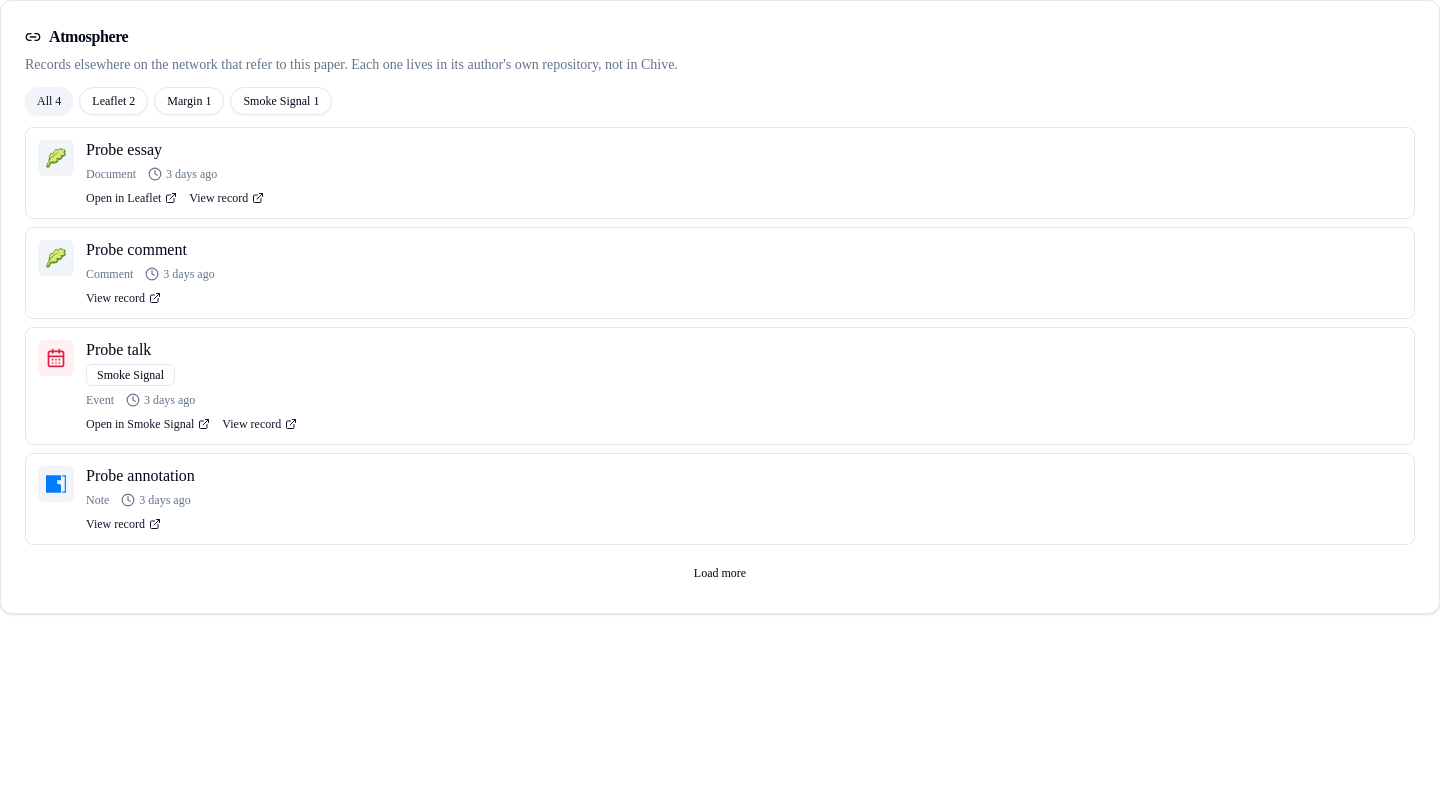
Test: BacklinksPanel › loads the next page on request
Expected: the text "Probe essay" is shown, [86,141,162,158]
Click the button "Load more".
click(720, 573)  # box [25,557,1415,589]
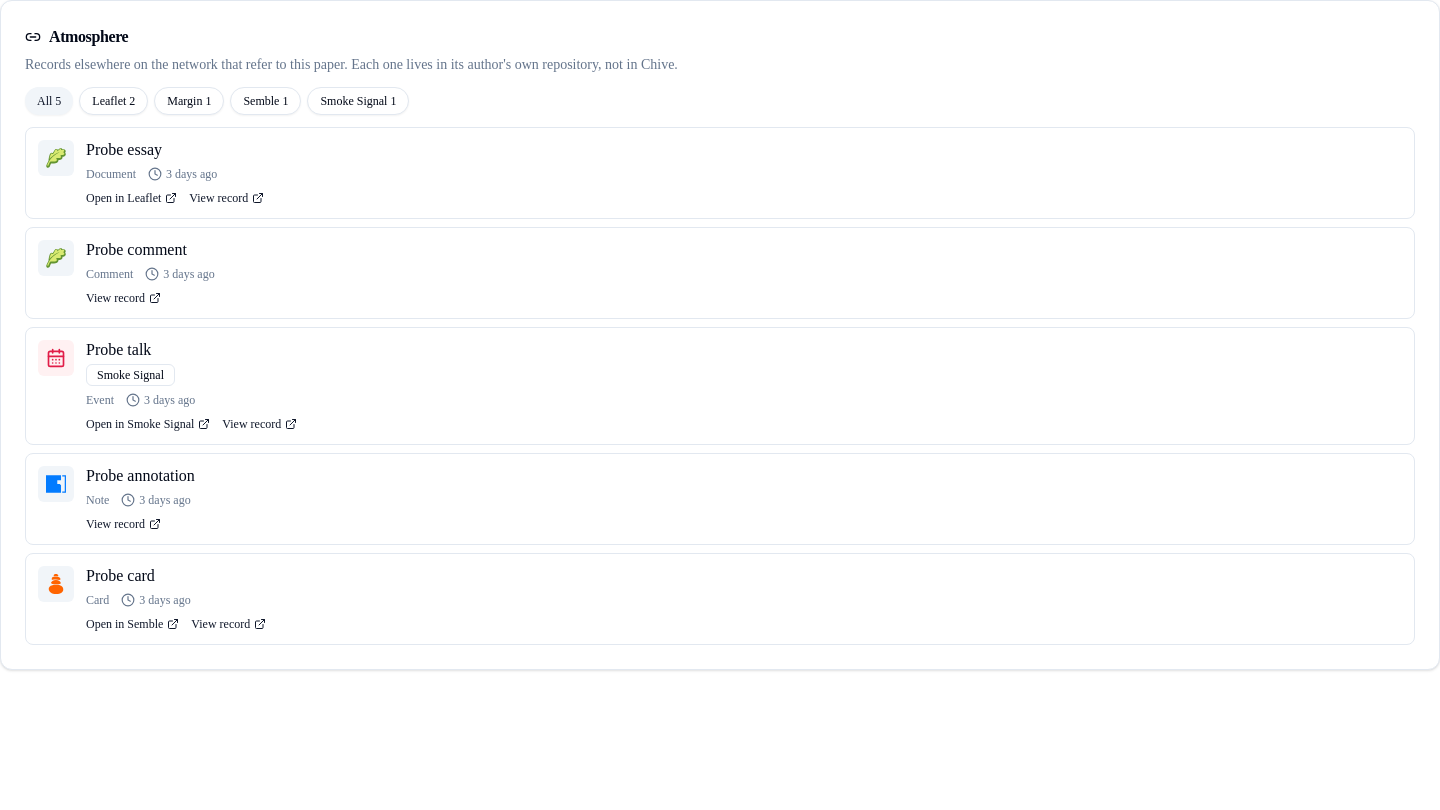
Expected: the text "Probe card" is shown, [86,567,155,584]
Expected: the button "Semble 1" is shown, [230,87,301,115]
